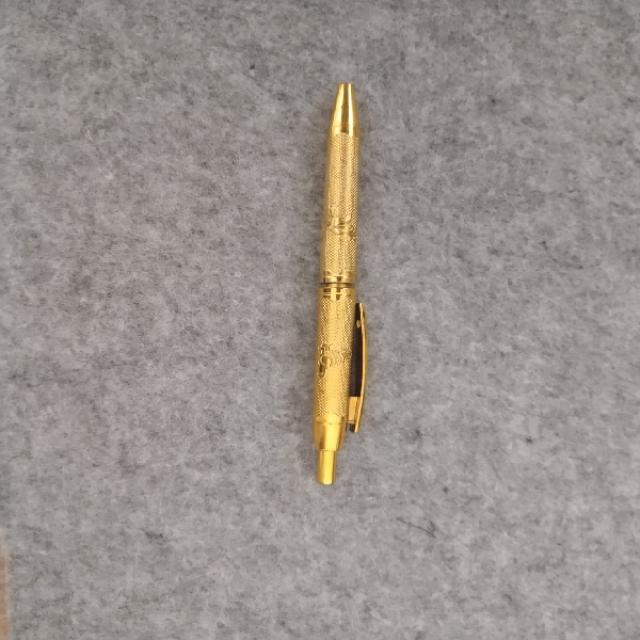signature pen: (313, 83, 366, 483)
